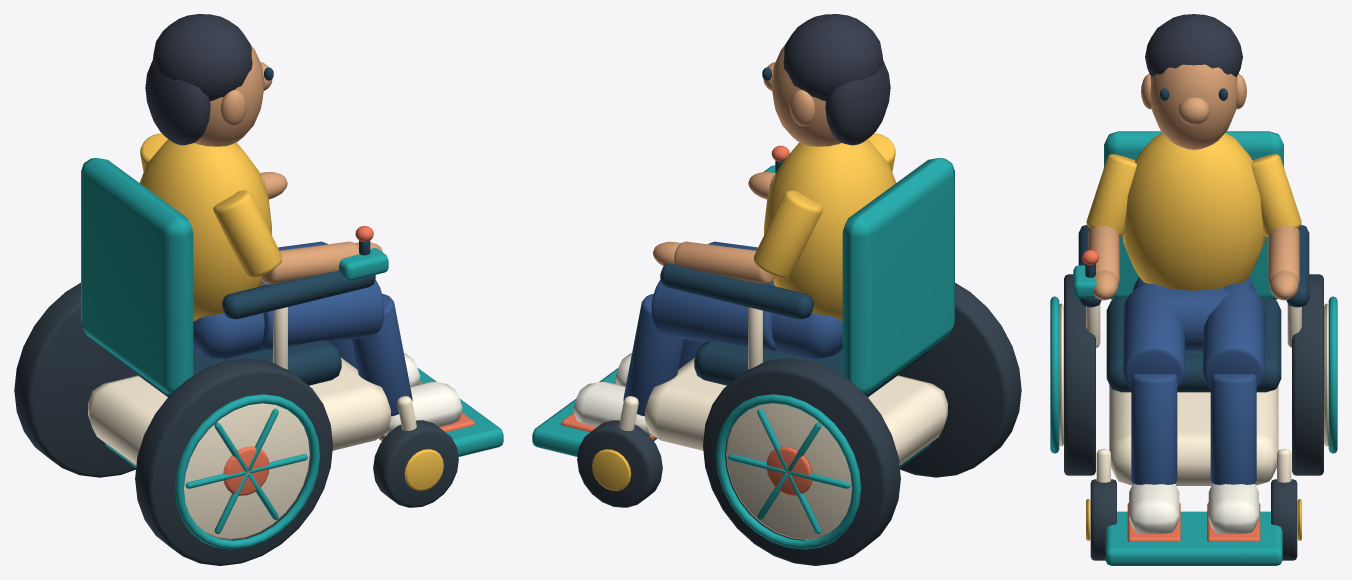
File: Hero.fbx
3 views of the same model, side by side, from view 1: azimuth 30°, elevation 25°; view 2: azimuth 150°, elevation 25°; view 3: azimuth 270°, elevation 25° (orthographic). The views are drawn at different scales.
Visible parts, largest first — view 1: GEO-Backrest, GEO-WheelRear-1, GEO-WheelRear1, GEO-Jacket, GEO-WheelHub-1, GEO-ChairBase, GEO-Hair, GEO-Thigh, GEO-WheelFront-1, GEO-PushRing-1, GEO-HairBack, GEO-UpperArm (+13 smaller); view 2: GEO-Backrest, GEO-WheelRear1, GEO-WheelRear-1, GEO-Jacket, GEO-WheelHub1, GEO-ChairBase, GEO-Hair, GEO-Thigh.001, GEO-WheelFront1, GEO-PushRing1, GEO-Armrest.001, GEO-HairBack (+12 smaller); view 3: GEO-Jacket, GEO-ChairBase, GEO-Footrest, GEO-WheelRear1, GEO-WheelRear-1, GEO-Head, GEO-Shin, GEO-Shin.001, GEO-Thigh, GEO-Thigh.001, GEO-Hair, GEO-Seat (+26 smaller).
Boxes of the visible parts, <box> form: GEO-Backrest: <box>81,158,193,394</box>; GEO-WheelRear-1: <box>135,358,332,565</box>; GEO-WheelRear1: <box>14,283,137,477</box>; GEO-Jacket: <box>139,139,271,320</box>; GEO-WheelHub-1: <box>184,403,309,539</box>; GEO-ChairBase: <box>88,357,390,465</box>; GEO-Hair: <box>152,14,252,101</box>; GEO-Thigh: <box>259,280,384,350</box>; GEO-WheelFront-1: <box>373,420,458,507</box>; GEO-PushRing-1: <box>174,394,319,549</box>; GEO-HairBack: <box>145,61,210,145</box>; GEO-UpperArm: <box>213,190,282,277</box>; GEO-Backrest: <box>842,158,954,394</box>; GEO-WheelRear1: <box>703,358,900,565</box>; GEO-WheelRear-1: <box>898,283,1021,477</box>; GEO-Jacket: <box>764,139,896,320</box>; GEO-WheelHub1: <box>726,403,851,539</box>; GEO-ChairBase: <box>645,357,947,465</box>; GEO-Hair: <box>783,14,883,101</box>; GEO-Thigh.001: <box>651,280,776,350</box>; GEO-WheelFront1: <box>577,420,662,507</box>; GEO-PushRing1: <box>716,394,861,549</box>; GEO-Armrest.001: <box>660,263,813,319</box>; GEO-HairBack: <box>825,61,890,145</box>; GEO-Jacket: <box>1122,133,1265,290</box>; GEO-ChairBase: <box>1109,385,1278,485</box>; GEO-Footrest: <box>1105,511,1282,565</box>; GEO-WheelRear1: <box>1292,274,1323,475</box>; GEO-WheelRear-1: <box>1064,274,1095,475</box>; GEO-Head: <box>1150,64,1237,149</box>; GEO-Shin: <box>1131,374,1177,484</box>; GEO-Shin.001: <box>1210,374,1256,484</box>; GEO-Thigh: <box>1123,284,1184,388</box>; GEO-Thigh.001: <box>1203,284,1264,388</box>; GEO-Hair: <box>1145,14,1242,76</box>; GEO-Seat: <box>1106,297,1281,392</box>.
Size of the model in its own units: 1.56 by 1.93 by 1.08.
